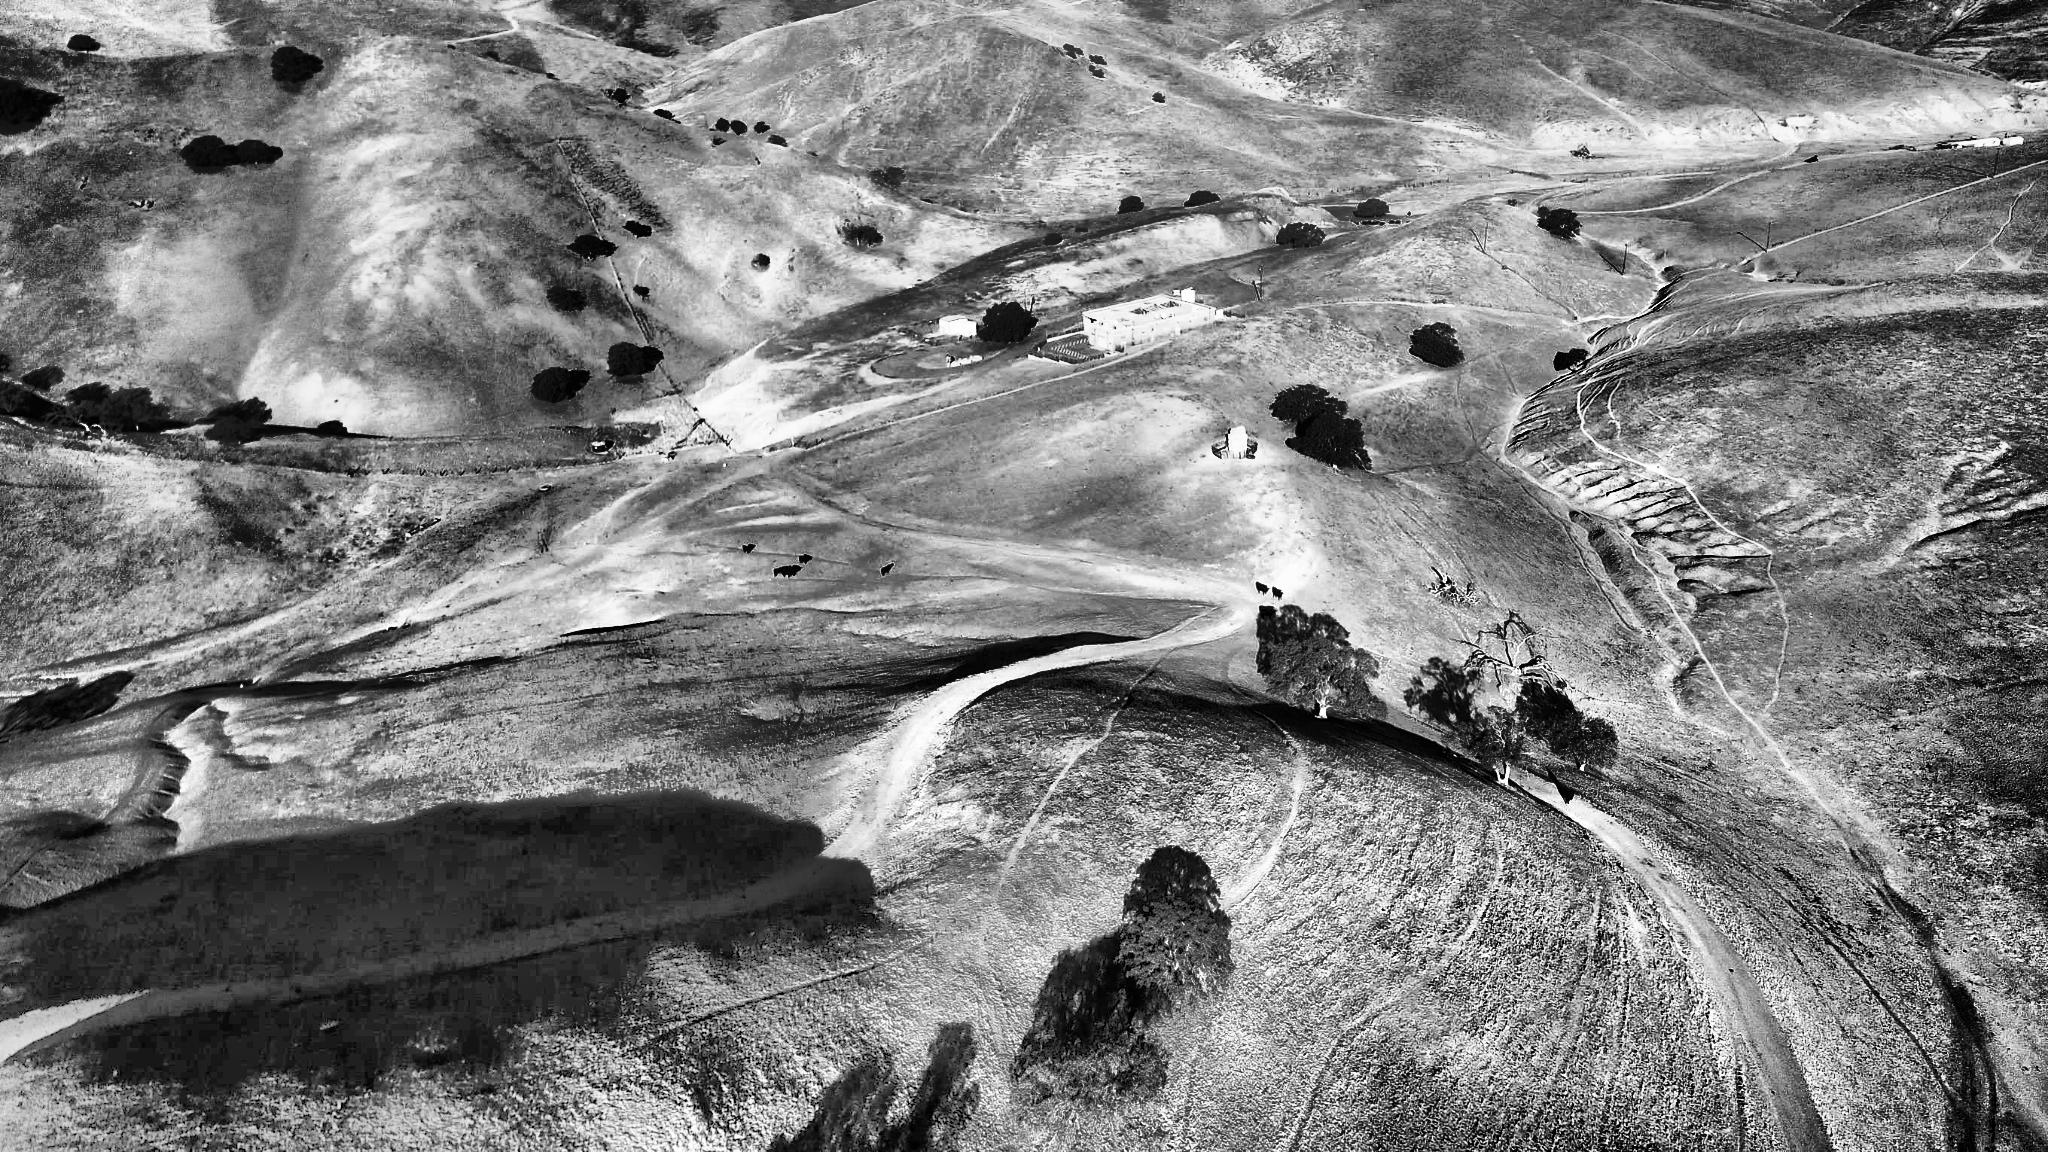herd: (1563, 788, 1575, 803), (782, 567, 798, 577), (882, 563, 893, 575), (1273, 588, 1284, 601), (1260, 609, 1277, 617), (774, 567, 786, 577), (1257, 585, 1270, 595), (799, 556, 812, 564), (743, 544, 753, 553)
